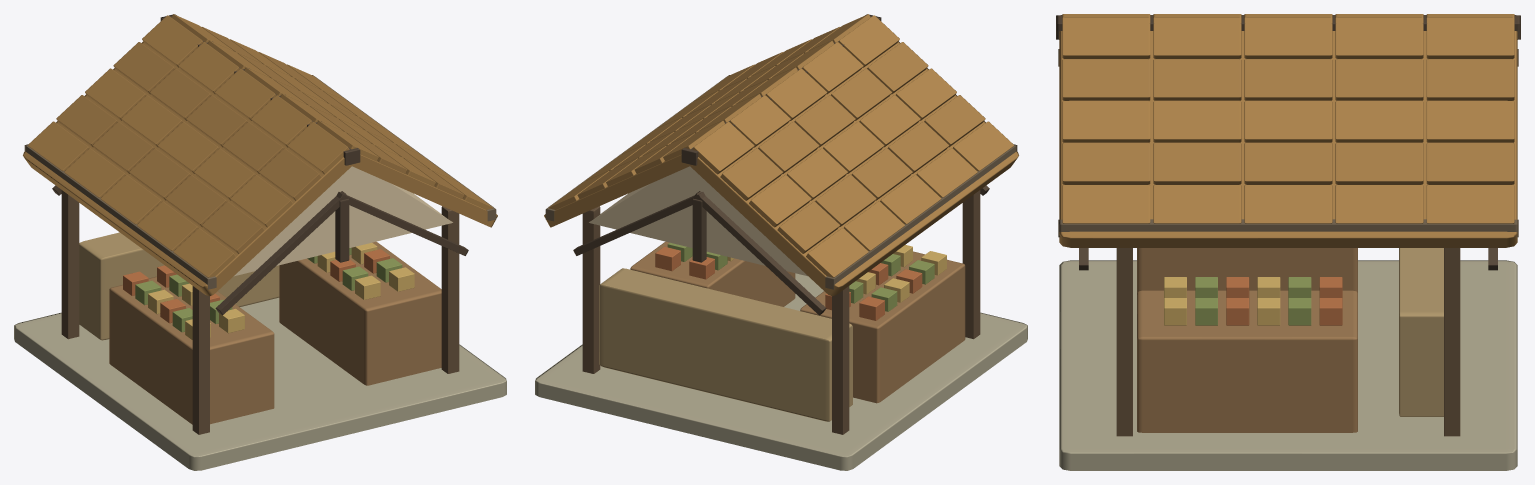
File: market-2.glb
3 renders of one model, left to right at view 1: azimuth 30°, elevation 25°; view 2: azimuth 150°, elevation 25°; view 3: azimuth 270°, elevation 25°, orthographic. The views are drawn at different scales.
Visible parts, largest first — view 1: market-2-0; view 2: market-2-0; view 3: market-2-0.
Boxes of the visible parts, left/top/right/bottom form: market-2-0: left=14, top=14, right=506, bottom=470; market-2-0: left=535, top=14, right=1027, bottom=470; market-2-0: left=1056, top=14, right=1520, bottom=470.
Size of the model in its own units: 2.8 by 2.42 by 2.84.
